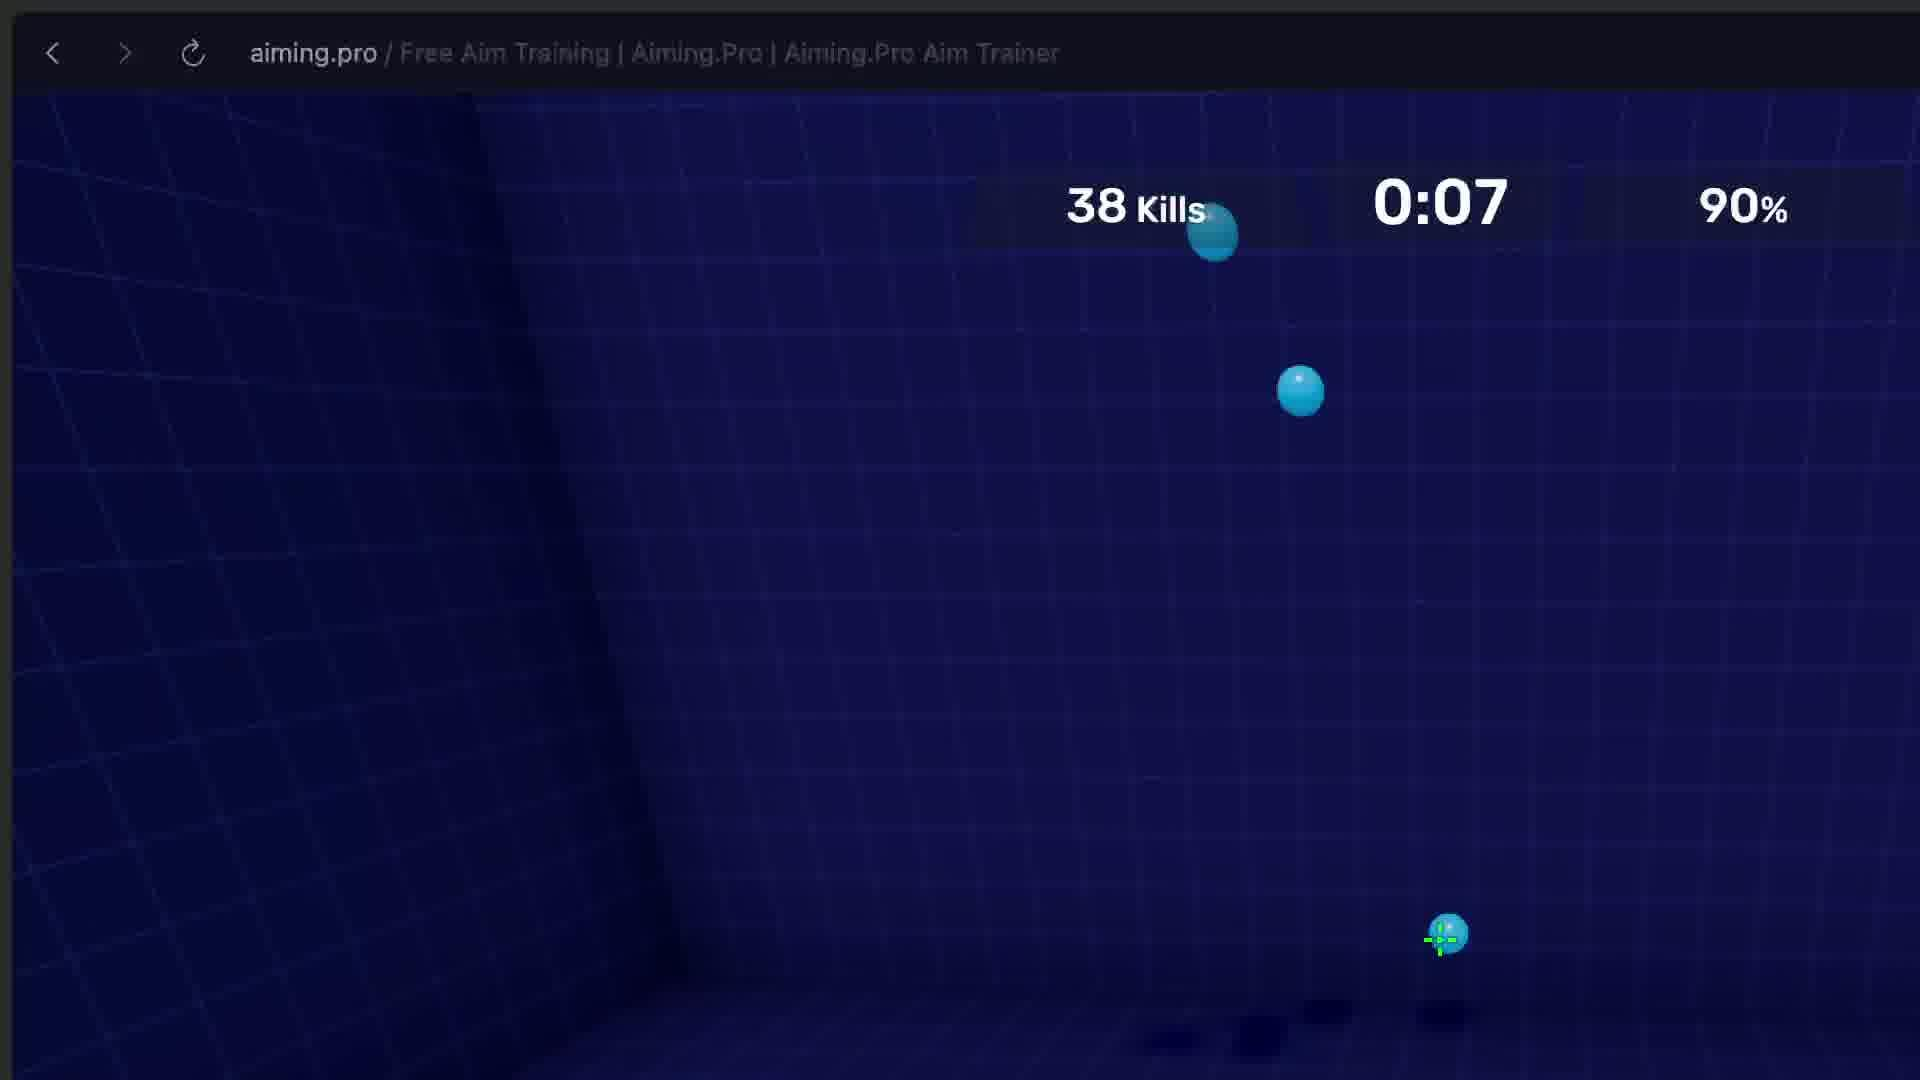target: (1187, 204, 1237, 262), (1275, 364, 1325, 418), (1425, 913, 1469, 953)
